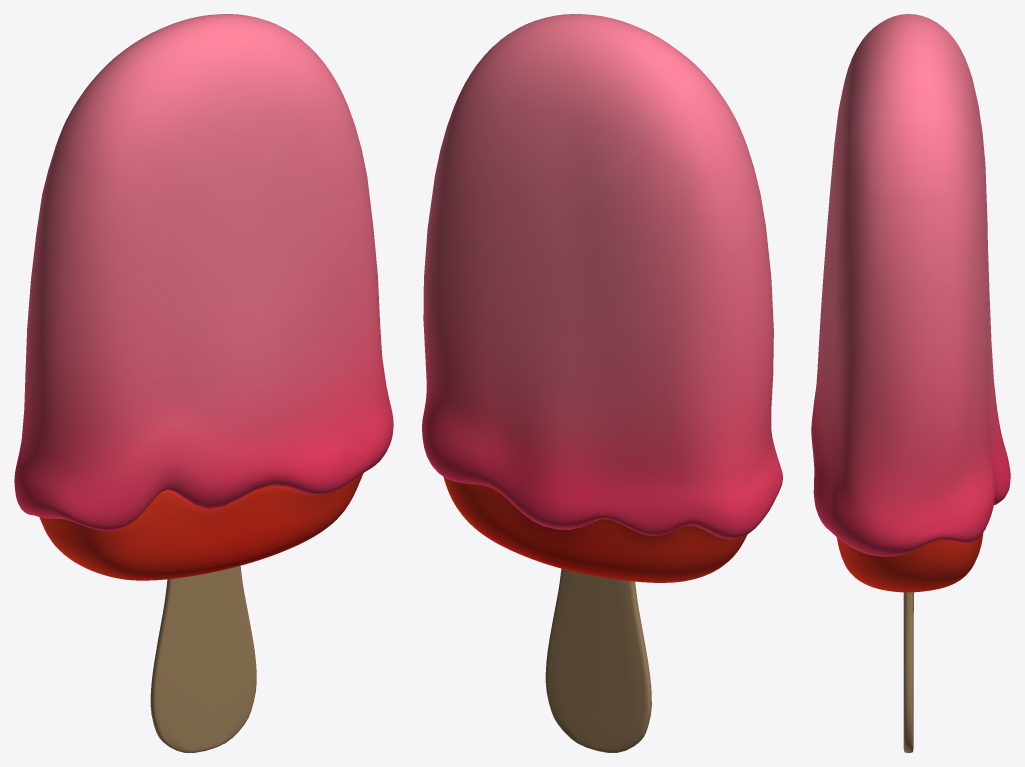
The model's file is Project Name.gltf.
The picture shows the model from 3 angles, left to right: view 1: azimuth 30°, elevation 25°; view 2: azimuth 150°, elevation 25°; view 3: azimuth 270°, elevation 25°; orthographic projection.
Visible parts, largest first — view 1: Frosting, Ice cream, Stick; view 2: Frosting, Stick, Ice cream; view 3: Frosting, Ice cream, Stick.
Boxes of the visible parts, left/top/right/bottom form: Frosting: left=14, top=14, right=393, bottom=530; Ice cream: left=39, top=473, right=363, bottom=580; Stick: left=150, top=565, right=256, bottom=752; Frosting: left=422, top=14, right=782, bottom=539; Stick: left=545, top=568, right=651, bottom=752; Ice cream: left=443, top=476, right=747, bottom=582; Frosting: left=811, top=14, right=1010, bottom=556; Ice cream: left=836, top=532, right=983, bottom=592; Stick: left=903, top=592, right=913, bottom=752.
Size of the model in its own units: 0.0881 by 0.1778 by 0.0448.
3 materials, 2 textured.
